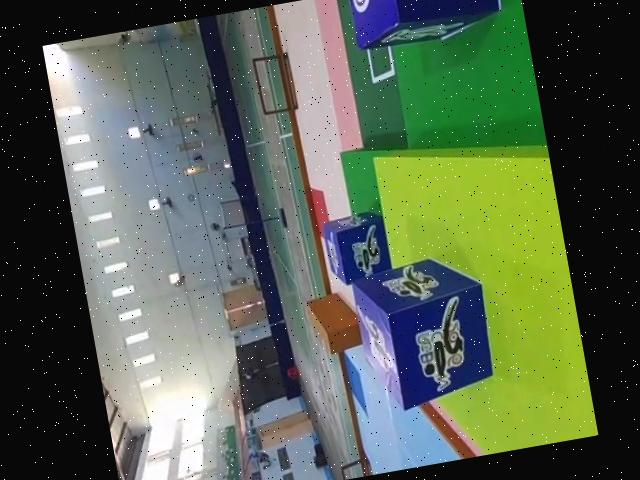R1 Blue: (348, 248, 501, 412), (323, 208, 397, 287)
R2 Fake Blue: (346, 0, 515, 53)
